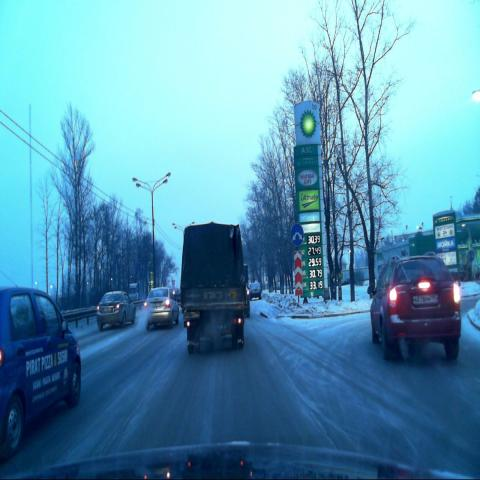4_2_3: (291, 223, 304, 247)
